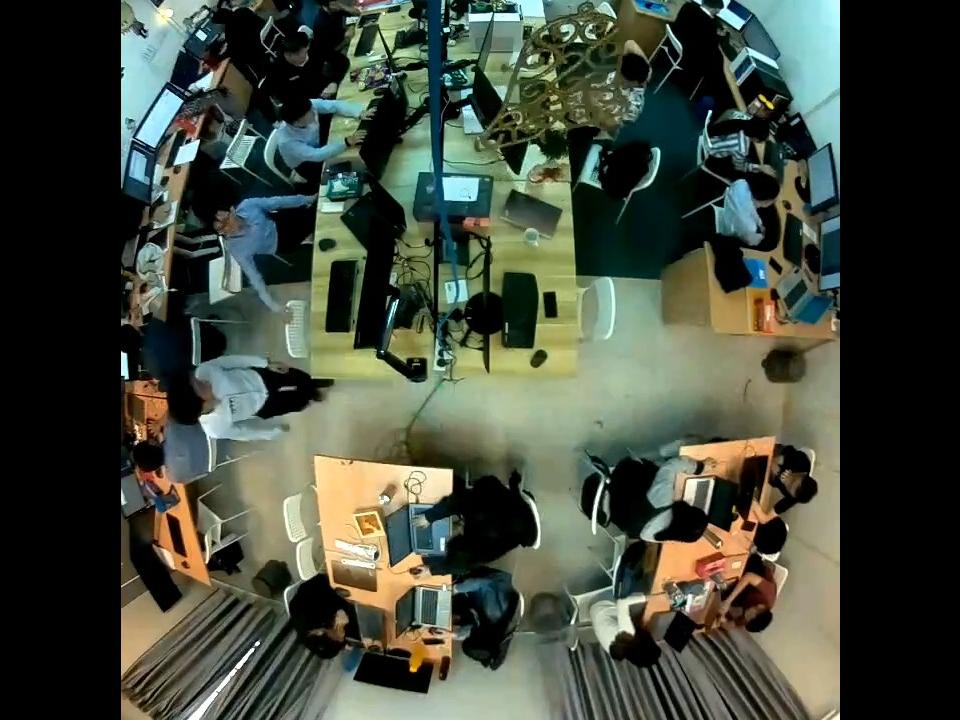name-tag: (226, 397, 236, 415)
